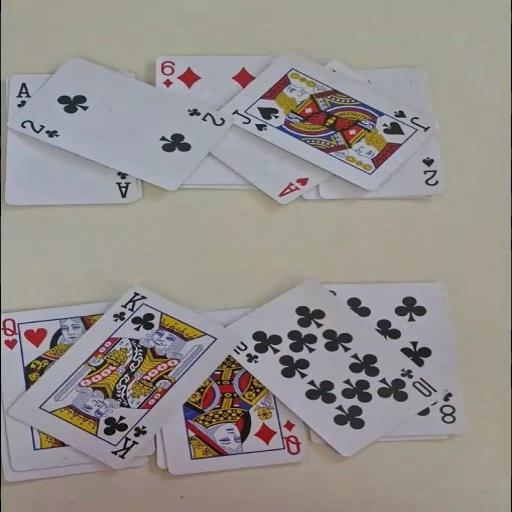10: (232, 339, 260, 364)
2: (18, 118, 61, 139), (184, 106, 227, 127), (420, 154, 440, 186)
6: (158, 58, 176, 88)
A: (275, 175, 312, 198), (114, 169, 132, 199), (14, 81, 32, 108)
J: (229, 107, 270, 132), (390, 108, 432, 132)
K: (107, 419, 149, 459), (109, 290, 149, 327)
Q: (280, 418, 304, 457), (0, 316, 19, 350)
